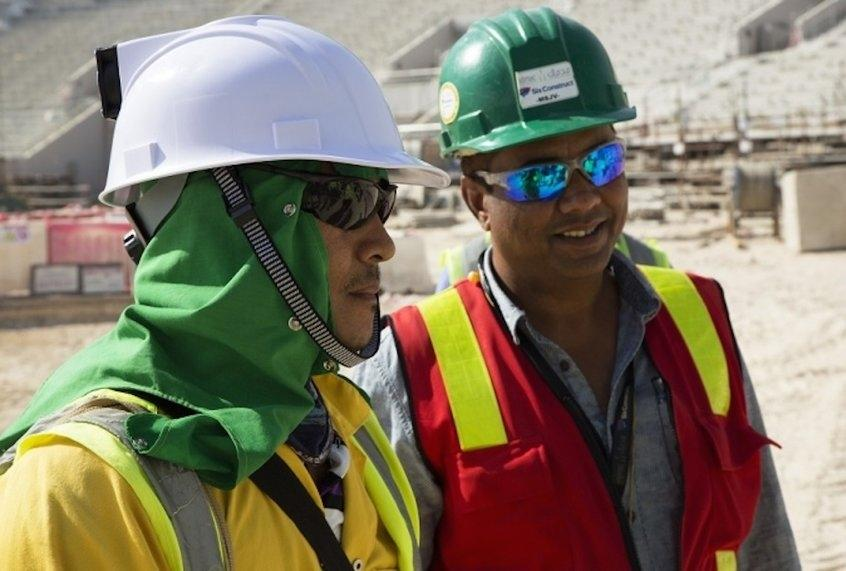helmet: (94, 13, 452, 201), (438, 7, 640, 158)
wear: (386, 292, 734, 570), (0, 380, 412, 571)
